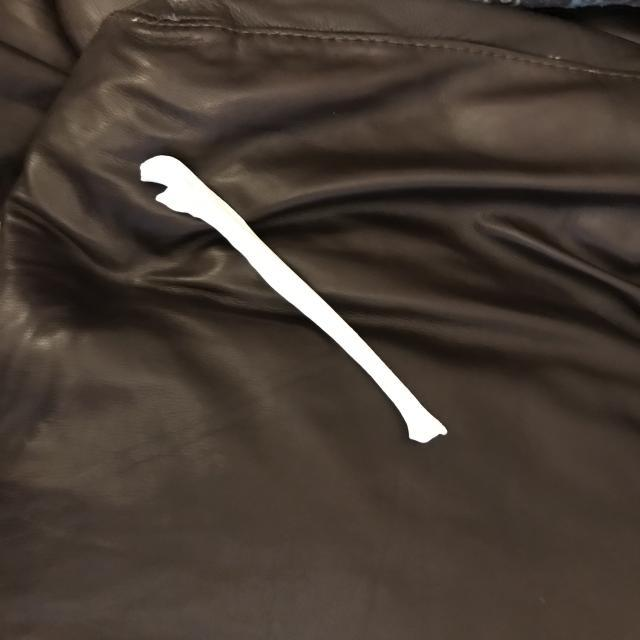bone: (133, 149, 454, 451)
